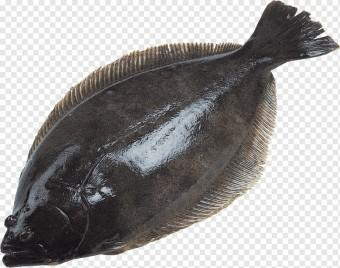fish: (0, 1, 339, 267)
